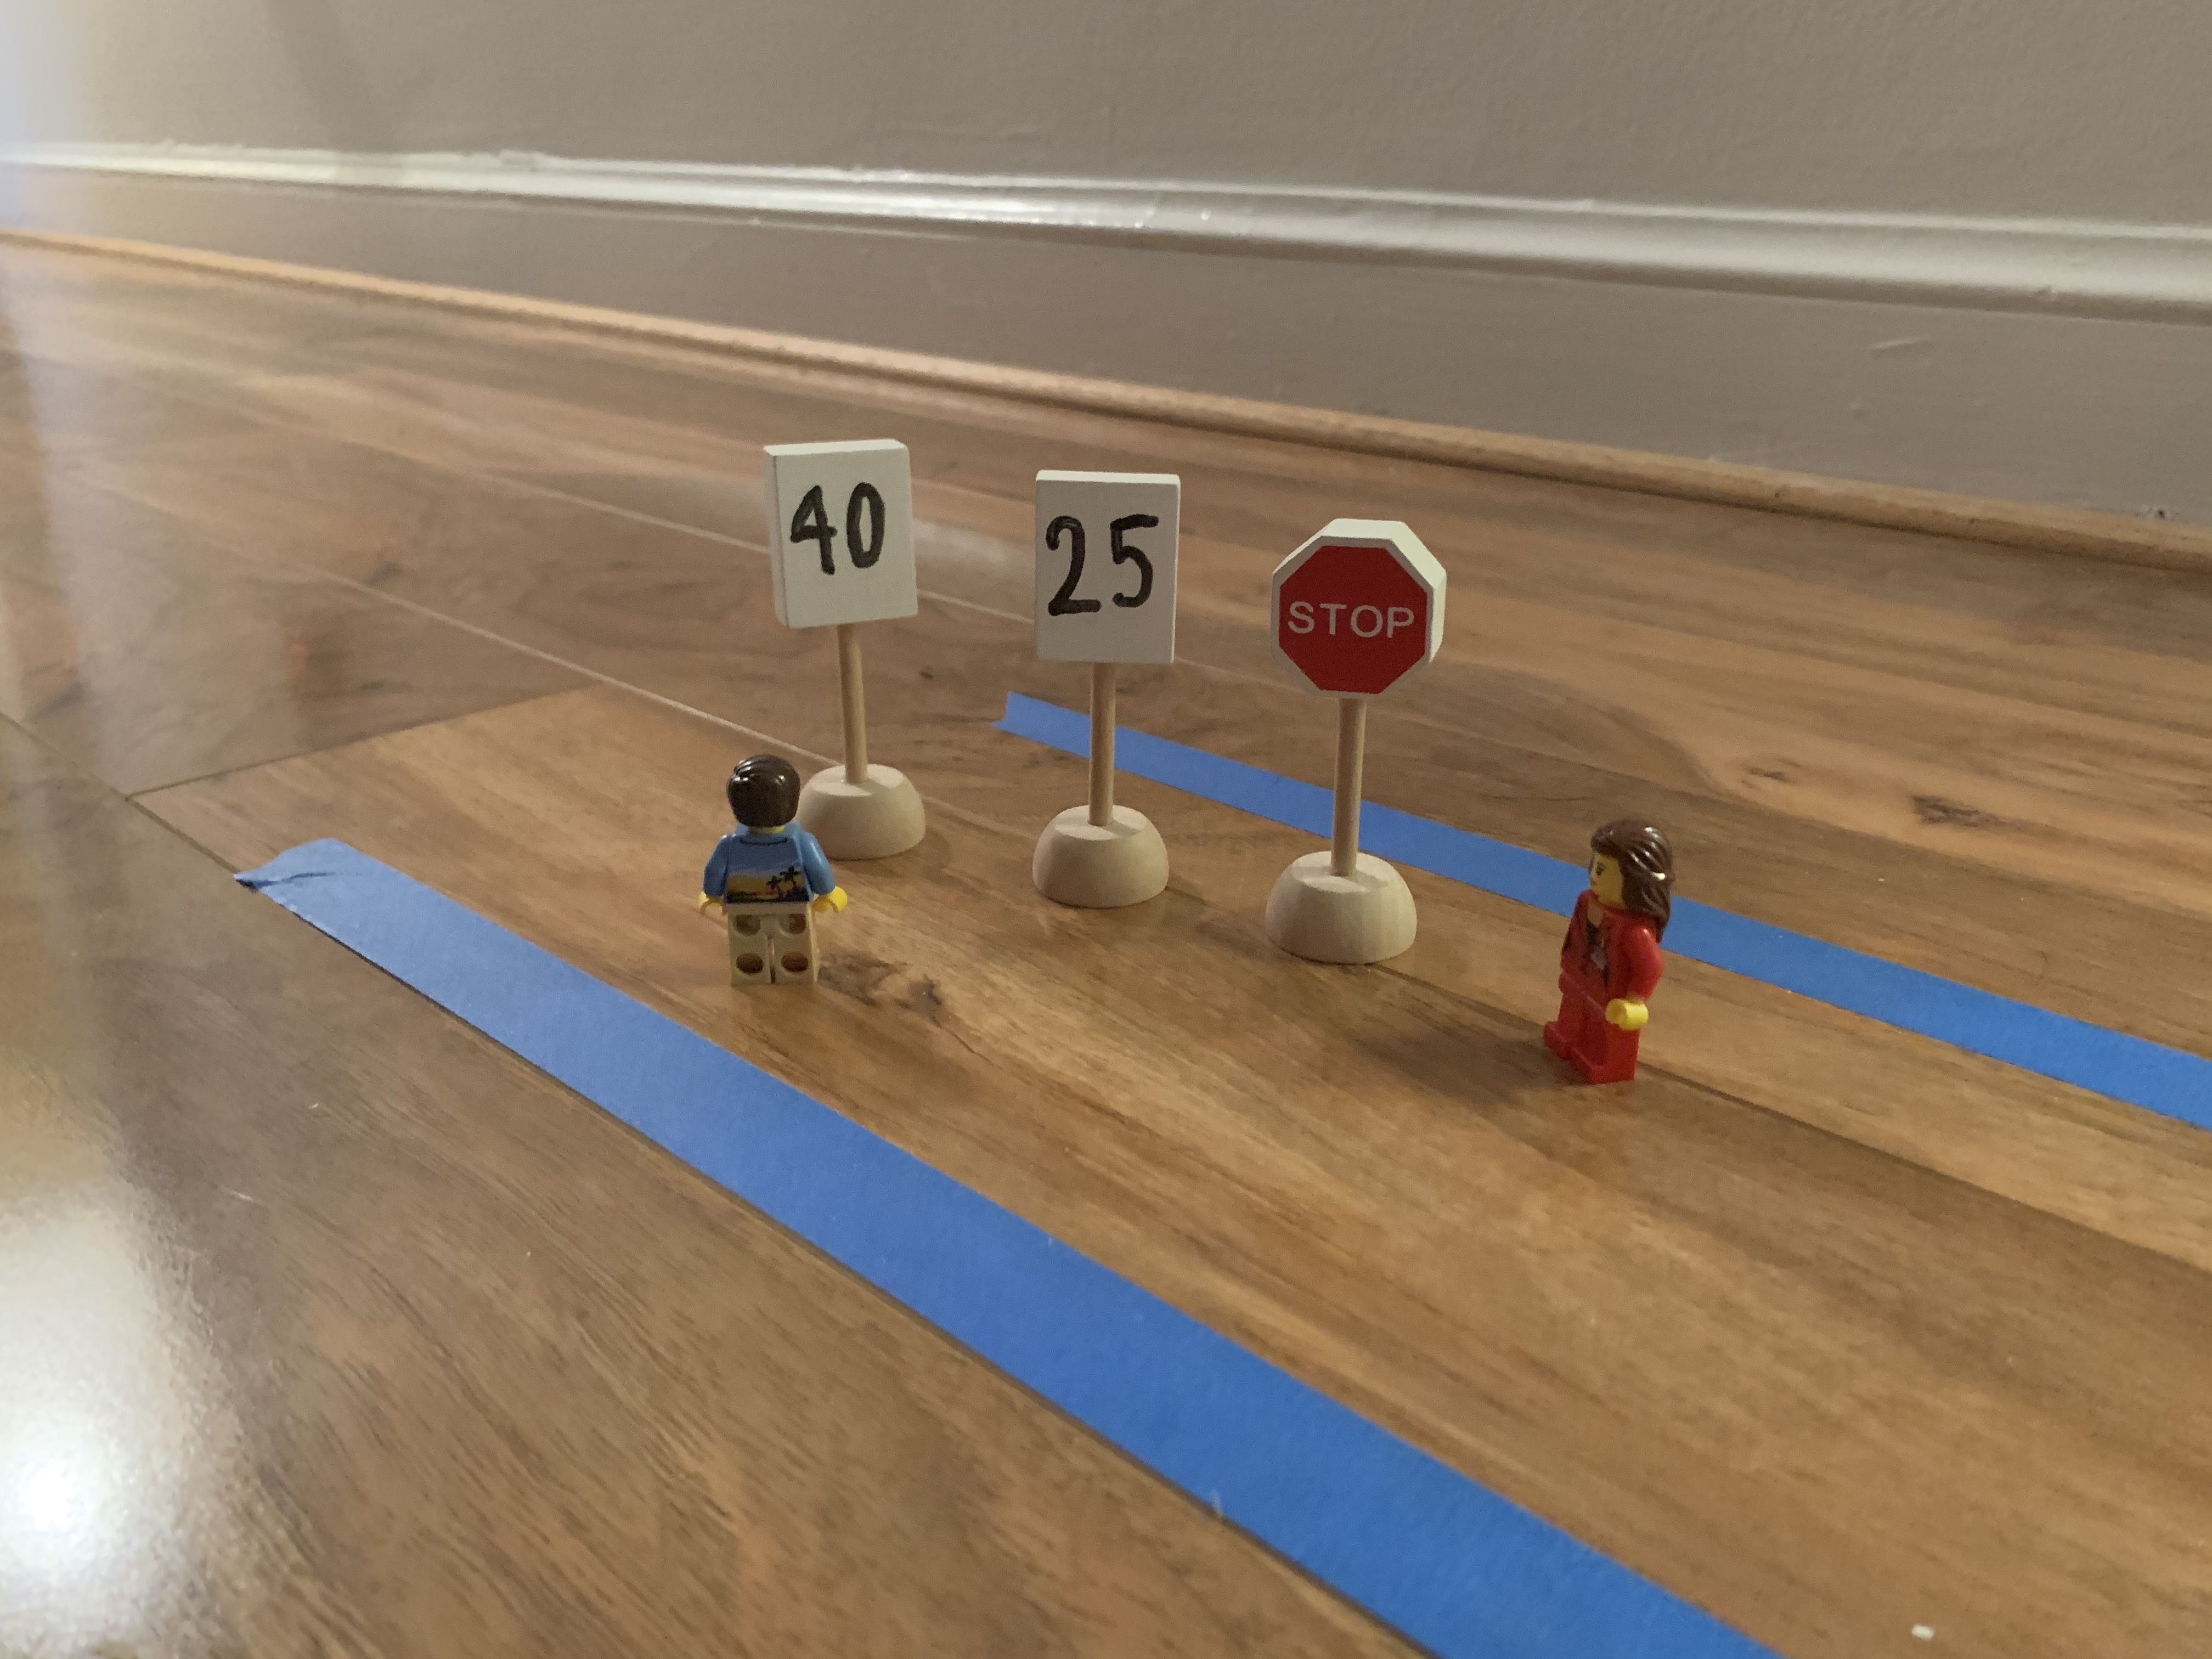Person: (678, 744, 854, 1016), (1538, 809, 1686, 1094)
Speed Limit 25: (1037, 478, 1177, 652)
Speed Limit 40: (765, 450, 915, 618)
Stop Sign: (1266, 517, 1448, 697)
